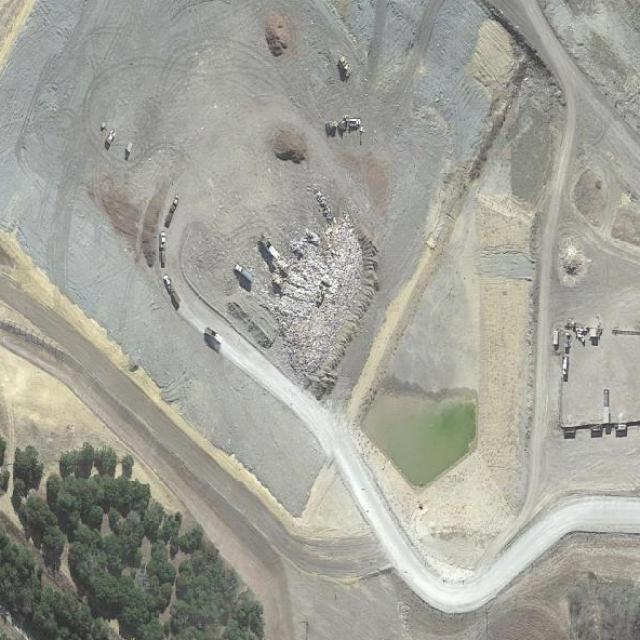dump_site: (248, 178, 397, 397)
